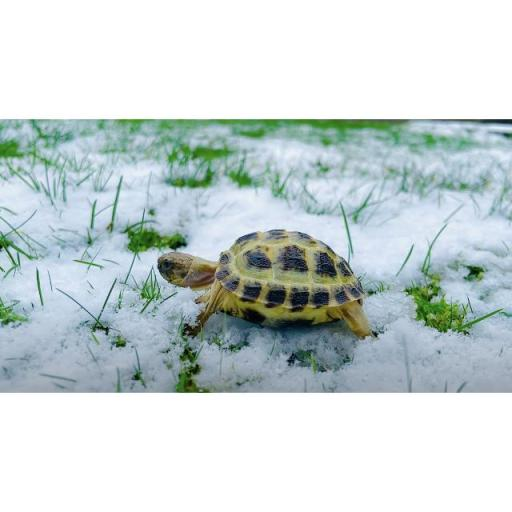turtle: (158, 230, 377, 338)
